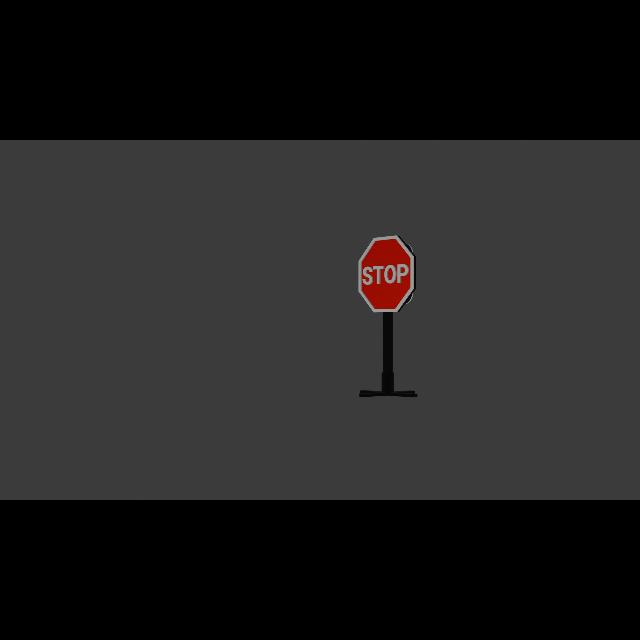sign_stop: (358, 236, 416, 314)
